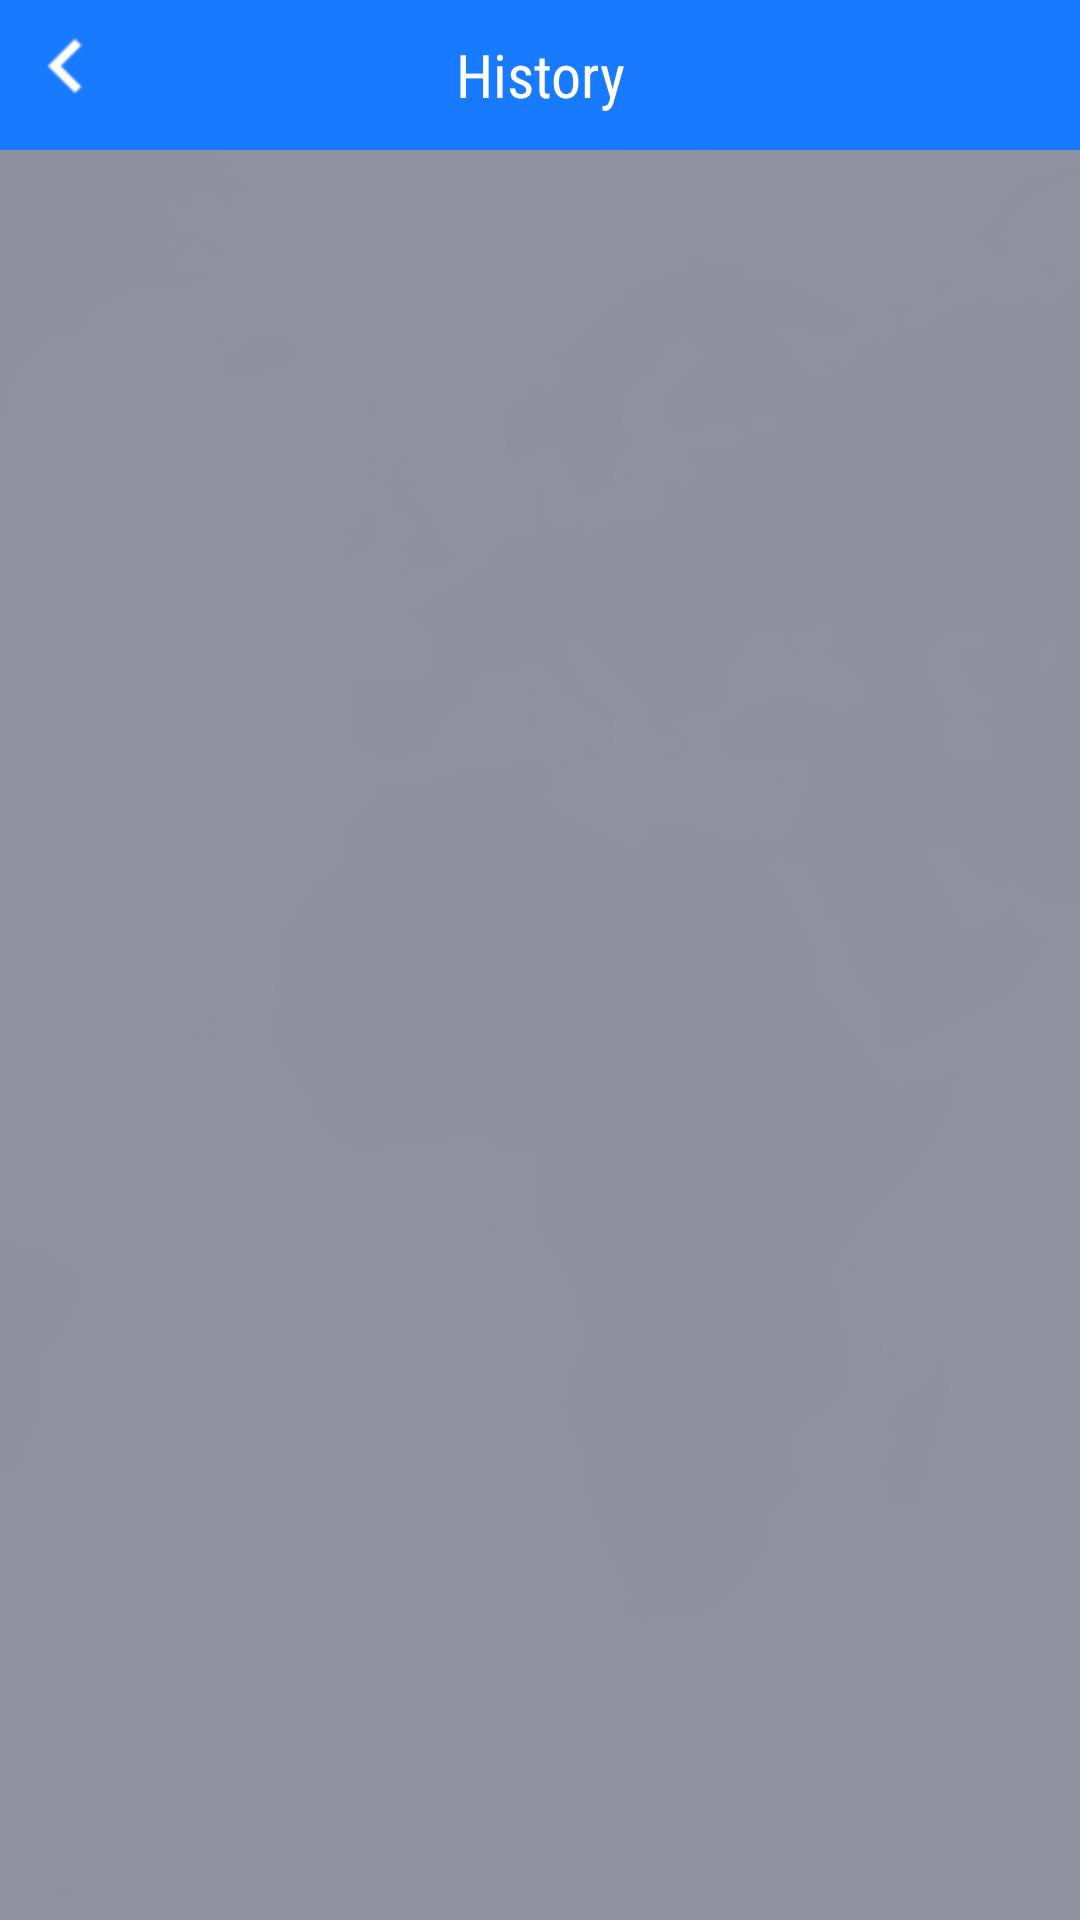

Screen size 1080px×1920px. Icon name, then its center in pixels as [x,y]:
back: [64,66]
